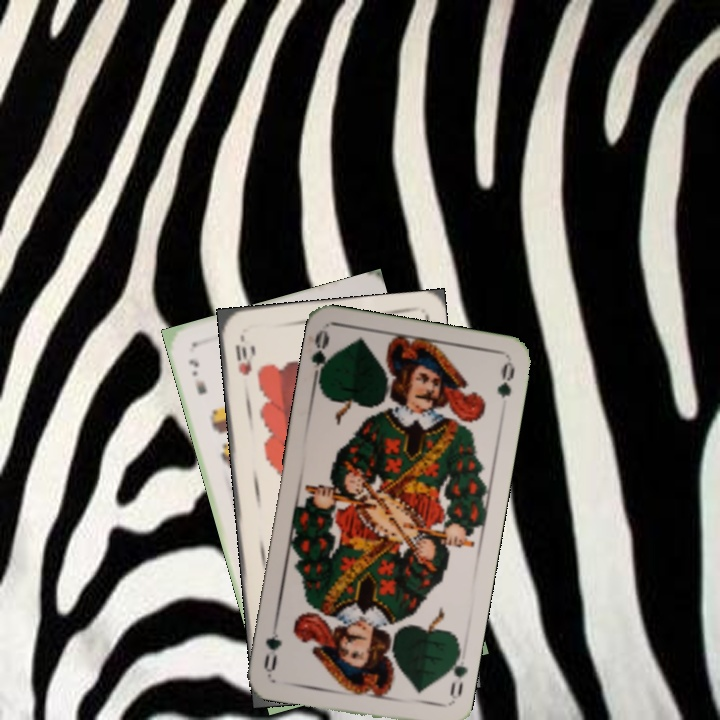E7: (185, 355, 209, 397)
GO: (307, 328, 336, 388), (441, 647, 470, 705)
H10: (231, 340, 254, 378)
